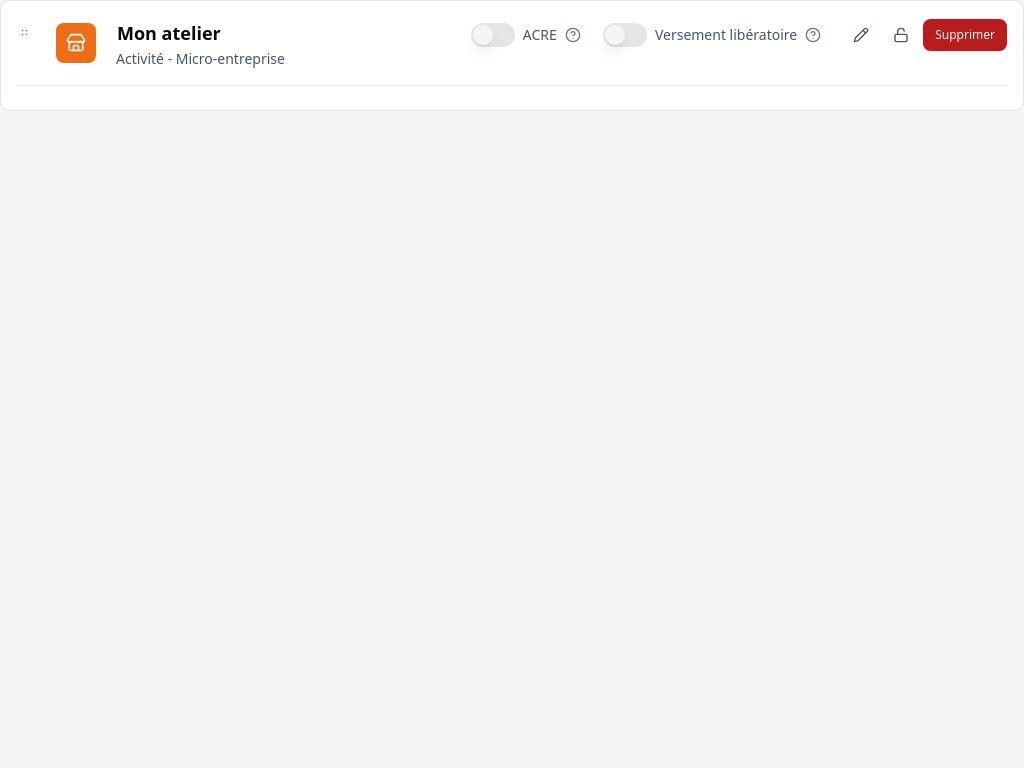
Test: EntityItem : réglages rapides › explique le versement libératoire : taux de l'année et plafond de revenu fiscal de référence
Click the button named "Qu'est-ce que le versement libératoire ?": coordinates (813, 35) x1=799 y1=21 x2=827 y2=49
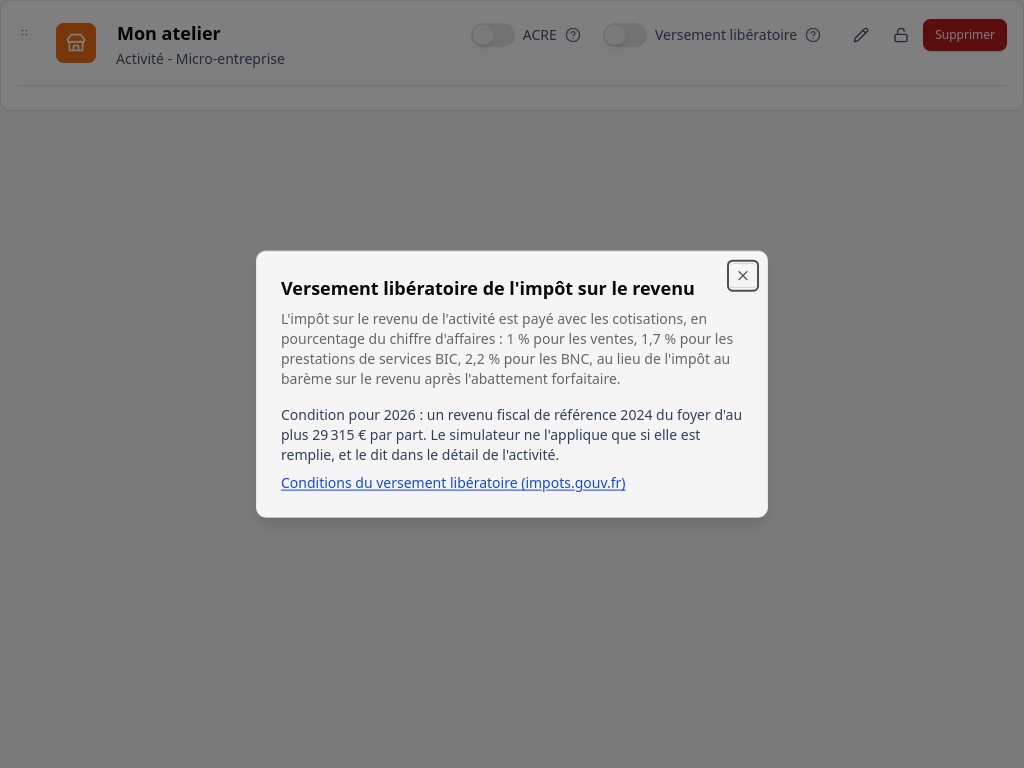
Expected: the link "Conditions du versement libératoire (impots.gouv.fr)" is shown, x1=281 y1=472 x2=626 y2=491
